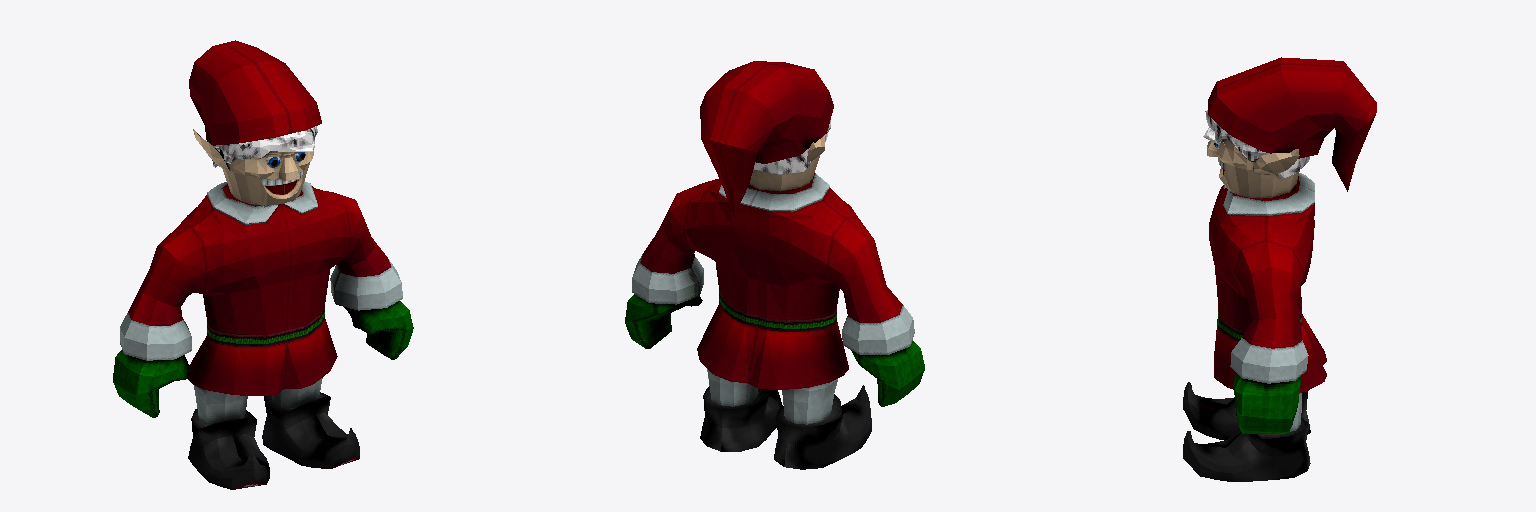
3 views of the same model, side by side, from view 1: azimuth 30°, elevation 25°; view 2: azimuth 150°, elevation 25°; view 3: azimuth 270°, elevation 25° (orthographic).
Parts seen in each view (by area): view 1: Handle1; view 2: Handle1; view 3: Handle1.
Part boxes in pixels (x1,y1,x2,y2): Handle1: (113, 40, 413, 489); Handle1: (625, 61, 924, 469); Handle1: (1183, 57, 1376, 481).
Bounding box in the file's own units: 1.81 × 2.4 × 1.1.
Materials: 1 (1 with a texture image).